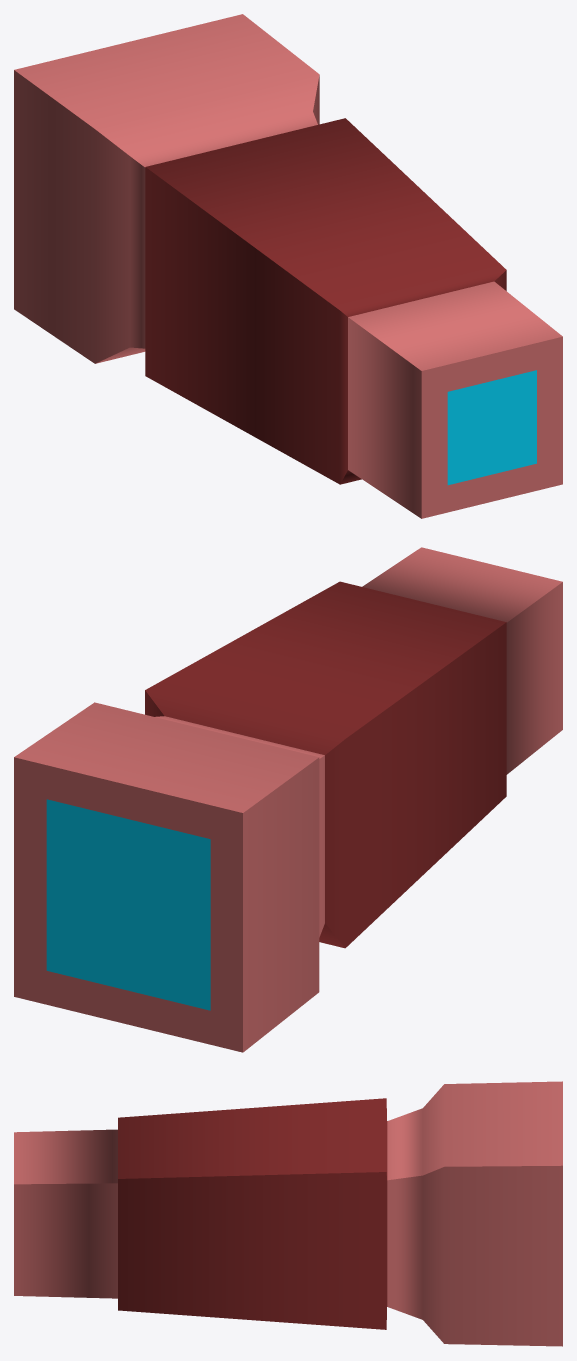
Rendered from Telescope 01.FBX.
3 renders of one model, top to bottom at view 1: azimuth 30°, elevation 25°; view 2: azimuth 150°, elevation 25°; view 3: azimuth 270°, elevation 25°, orthographic. The views are drawn at different scales.
Visible parts, largest first — view 1: Telescope 01; view 2: Telescope 01; view 3: Telescope 01.
Part boxes in pixels (left/top/right/bottom): Telescope 01: left=14, top=14, right=562, bottom=518; Telescope 01: left=14, top=547, right=562, bottom=1052; Telescope 01: left=14, top=1081, right=562, bottom=1346.
Size of the model in its own units: 11.88 by 11.87 by 32.67.
